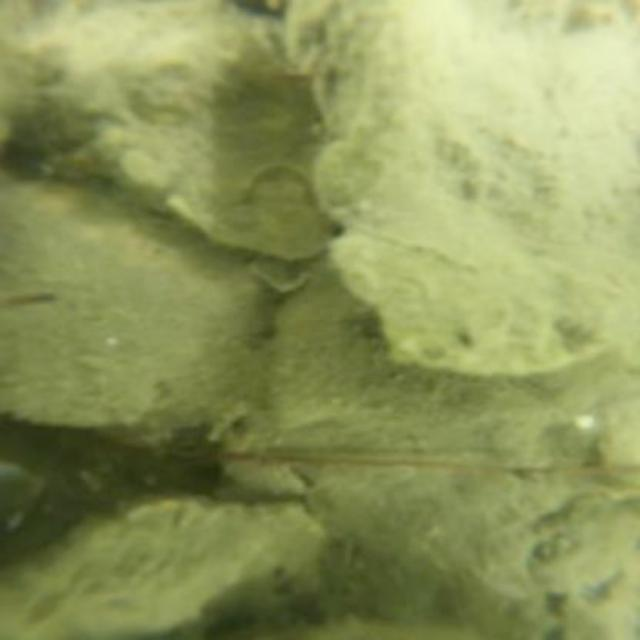Oyster-Closed: (283, 0, 638, 372), (0, 0, 325, 266), (2, 174, 270, 432), (0, 498, 325, 638)
